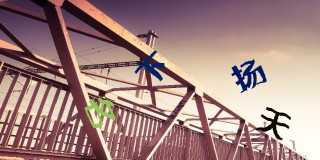下: (134, 49, 164, 80)
名: (83, 97, 116, 127)
天: (257, 105, 292, 140)
扬: (230, 59, 269, 94)
